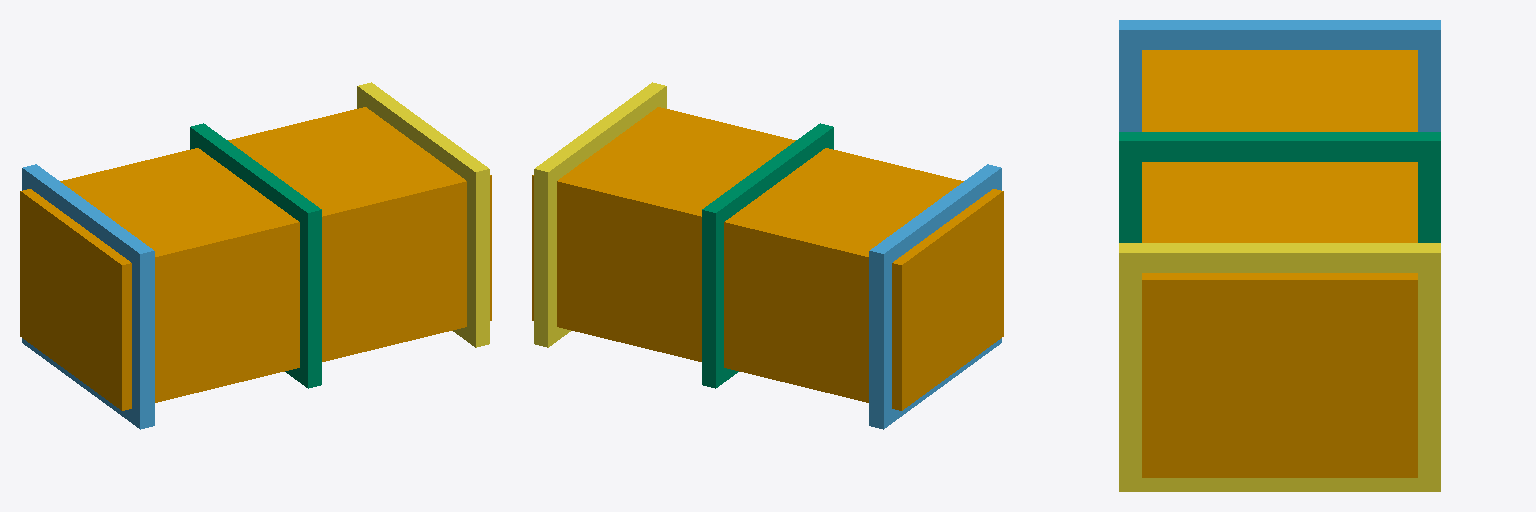
robot.urdf — debris004:
<?xml version="1.0" ?>
<robot name="debris004">

<link name="debris004">
<visual> <origin xyz="0 0 0" rpy="0 0 0" />
<geometry> <box size="1.30 0.62 0.49"/> </geometry>
</visual>
<collision> <origin xyz="0 0 0" rpy="0 0 0" />
<geometry> <box size="1.30 0.62 0.49"/> </geometry>
</collision>
<inertial> <origin xyz="0 0 0" rpy="0 0 0" />
<mass value="10.0" />
<inertia ixx="1.0765" ixy="0" ixz="0" iyy="1.0765" iyz="0" izz="1.0765" />
</inertial>
</link>
<gazebo reference="debris004"> <material>Gazebo/WoodPallet</material> </gazebo>

<link name="debris0040">
<visual> <origin xyz="-0.59 0 0" rpy="0 0 0" />
<geometry> <box size="0.05 0.72 0.59"/> </geometry>
</visual>
<collision> <origin xyz="-0.59 0 0" rpy="0 0 0" />
<geometry> <box size="0.05 0.72 0.59"/> </geometry>
</collision>
<inertial> <origin xyz="0 0 0" rpy="0 0 0" />
<mass value="0.1" />
<inertia ixx="0.0100" ixy="0" ixz="0" iyy="0.0100" iyz="0" izz="0.0100" />
</inertial>
</link>
<gazebo reference="debris0040"> <material>Gazebo/WoodPallet</material> </gazebo>

<joint name="debris0040joint" type="fixed">
<parent link="debris004"/>
<child link="debris0040"/>
<origin xyz="0 0 0" rpy="0 0 0" />
</joint>

<link name="debris0041">
<visual> <origin xyz="0.00 0 0" rpy="0 0 0" />
<geometry> <box size="0.05 0.72 0.59"/> </geometry>
</visual>
<collision> <origin xyz="0.00 0 0" rpy="0 0 0" />
<geometry> <box size="0.05 0.72 0.59"/> </geometry>
</collision>
<inertial> <origin xyz="0 0 0" rpy="0 0 0" />
<mass value="0.1" />
<inertia ixx="0.0100" ixy="0" ixz="0" iyy="0.0100" iyz="0" izz="0.0100" />
</inertial>
</link>
<gazebo reference="debris0041"> <material>Gazebo/WoodPallet</material> </gazebo>

<joint name="debris0041joint" type="fixed">
<parent link="debris004"/>
<child link="debris0041"/>
<origin xyz="0 0 0" rpy="0 0 0" />
</joint>

<link name="debris0042">
<visual> <origin xyz="0.59 0 0" rpy="0 0 0" />
<geometry> <box size="0.05 0.72 0.59"/> </geometry>
</visual>
<collision> <origin xyz="0.59 0 0" rpy="0 0 0" />
<geometry> <box size="0.05 0.72 0.59"/> </geometry>
</collision>
<inertial> <origin xyz="0 0 0" rpy="0 0 0" />
<mass value="0.1" />
<inertia ixx="0.0100" ixy="0" ixz="0" iyy="0.0100" iyz="0" izz="0.0100" />
</inertial>
</link>
<gazebo reference="debris0042"> <material>Gazebo/WoodPallet</material> </gazebo>

<joint name="debris0042joint" type="fixed">
<parent link="debris004"/>
<child link="debris0042"/>
<origin xyz="0 0 0" rpy="0 0 0" />
</joint>

</robot>

--- What the picture shows (computed from the rendered views, not written in the file) ---
Views: 3 orthographic renders of the robot side by side, from view 1: azimuth 30°, elevation 25°; view 2: azimuth 150°, elevation 25°; view 3: azimuth 270°, elevation 25°.
Model debris004 with 4 links and 3 joints (3 fixed), rooted at debris004, posed every joint at zero.
Links seen in each view (by area): view 1: debris004, debris0040, debris0042, debris0041; view 2: debris004, debris0040, debris0042, debris0041; view 3: debris004, debris0042, debris0040, debris0041.
Boxes of the visible links, x1,y1,x2,y2 form: debris004: (20,107,491,410); debris0040: (22,164,154,429); debris0042: (357,82,489,347); debris0041: (190,123,321,388); debris004: (532,107,1003,410); debris0040: (869,164,1001,429); debris0042: (534,82,666,347); debris0041: (702,123,833,388); debris004: (1142,50,1417,477); debris0042: (1119,243,1440,491); debris0040: (1119,20,1440,131); debris0041: (1119,132,1440,242).
Bounding box of the posed robot: 1.3 × 0.72 × 0.59 m (x, y, z).
Geometry: primitives only (box / cylinder / sphere), no mesh files.
